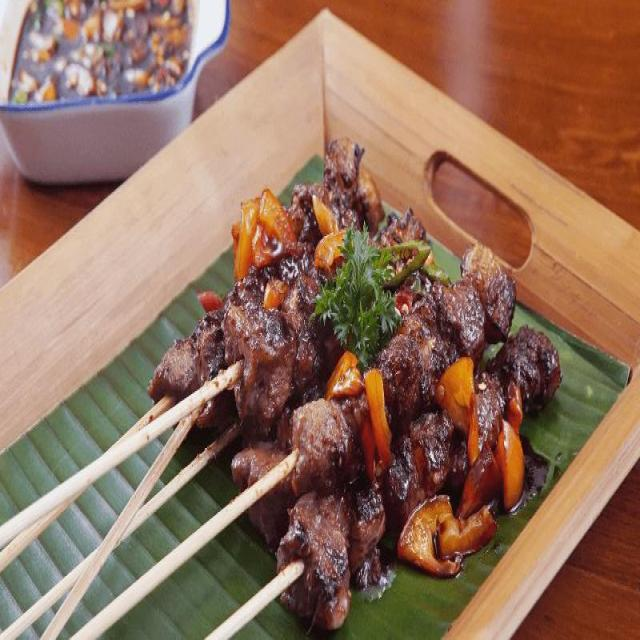Sate: (74, 162, 537, 626)
